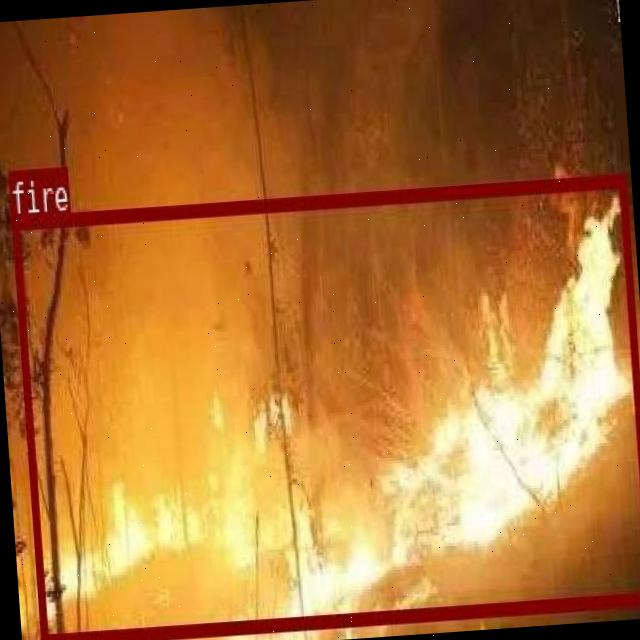fire: (10, 173, 640, 640)
